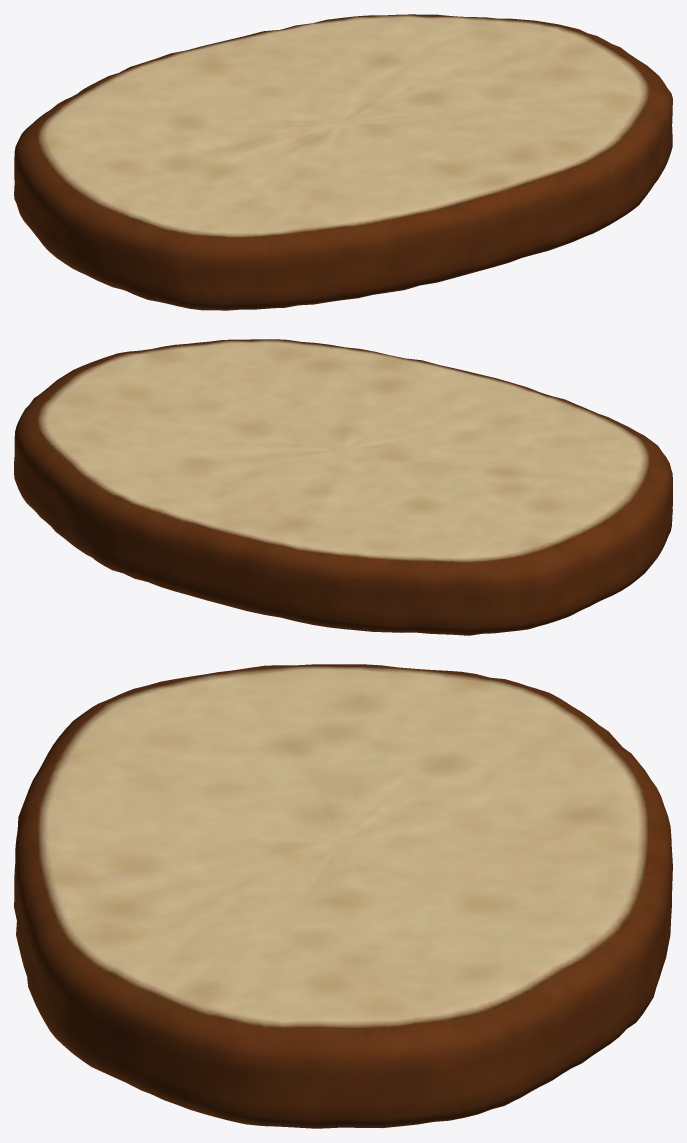
The model's file is bread_sour_top.glb.
3 views of the same model, one above another, from view 1: azimuth 30°, elevation 25°; view 2: azimuth 150°, elevation 25°; view 3: azimuth 270°, elevation 25° (orthographic). The views are drawn at different scales.
Visible parts, largest first — view 1: EX_Bread_sour_top; view 2: EX_Bread_sour_top; view 3: EX_Bread_sour_top.
Boxes of the visible parts, bbox=[...] form: EX_Bread_sour_top: bbox=[14, 14, 672, 310]; EX_Bread_sour_top: bbox=[14, 339, 672, 635]; EX_Bread_sour_top: bbox=[14, 664, 672, 1128].
Size of the model in its own units: 0.1324 by 0.0166 by 0.0945.
Materials: 1 (1 with a texture image).
